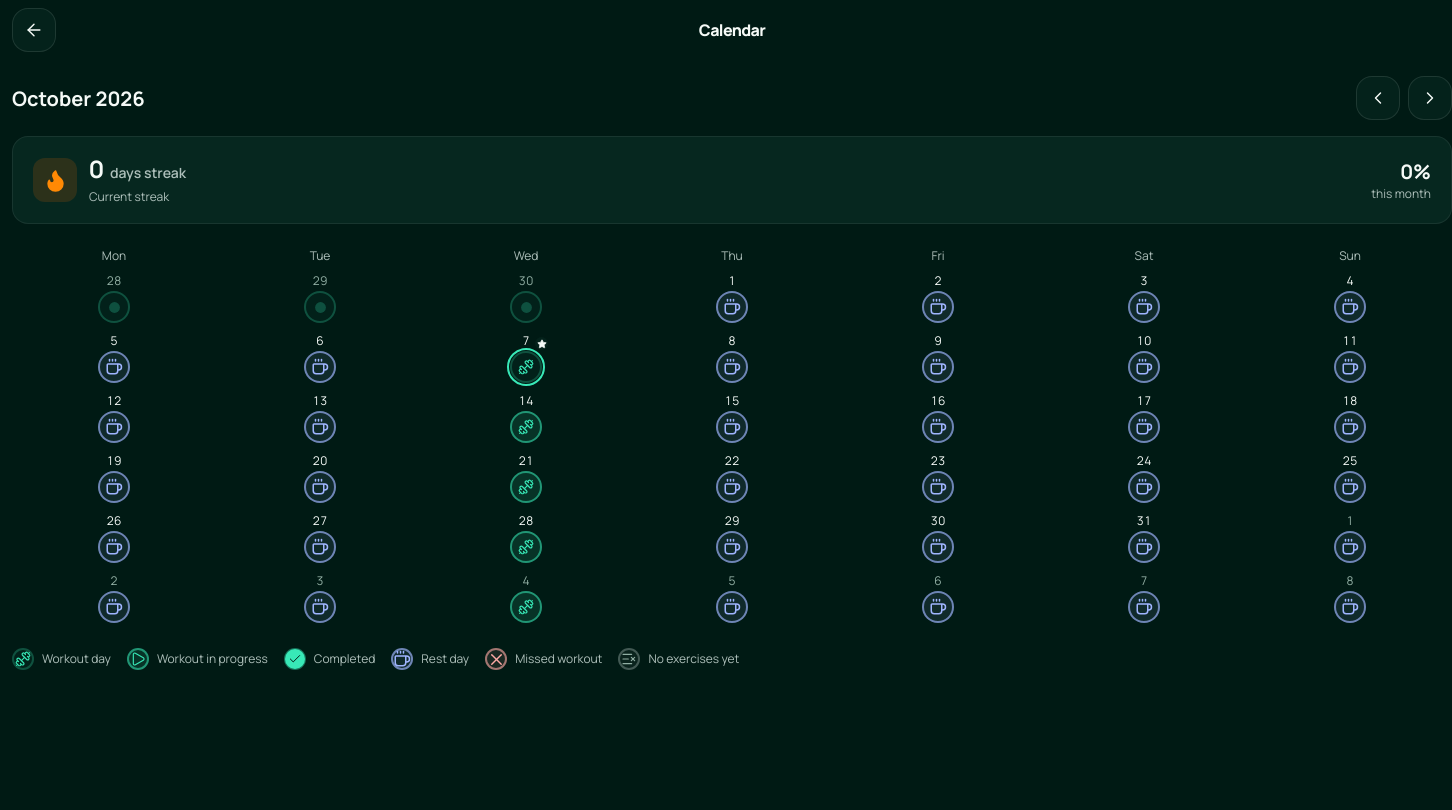
it: renders the monthly summary and keeps the Monday-first 42-cell calendar
Expected: the element named "Monthly workout streak summary" is shown, left=12, top=136, right=1451, bottom=224
Expected: the heading "October 2026" is shown, left=12, top=86, right=145, bottom=110
Click the link named "Previous month". click: (1378, 98)
box: left=1356, top=76, right=1400, bottom=120
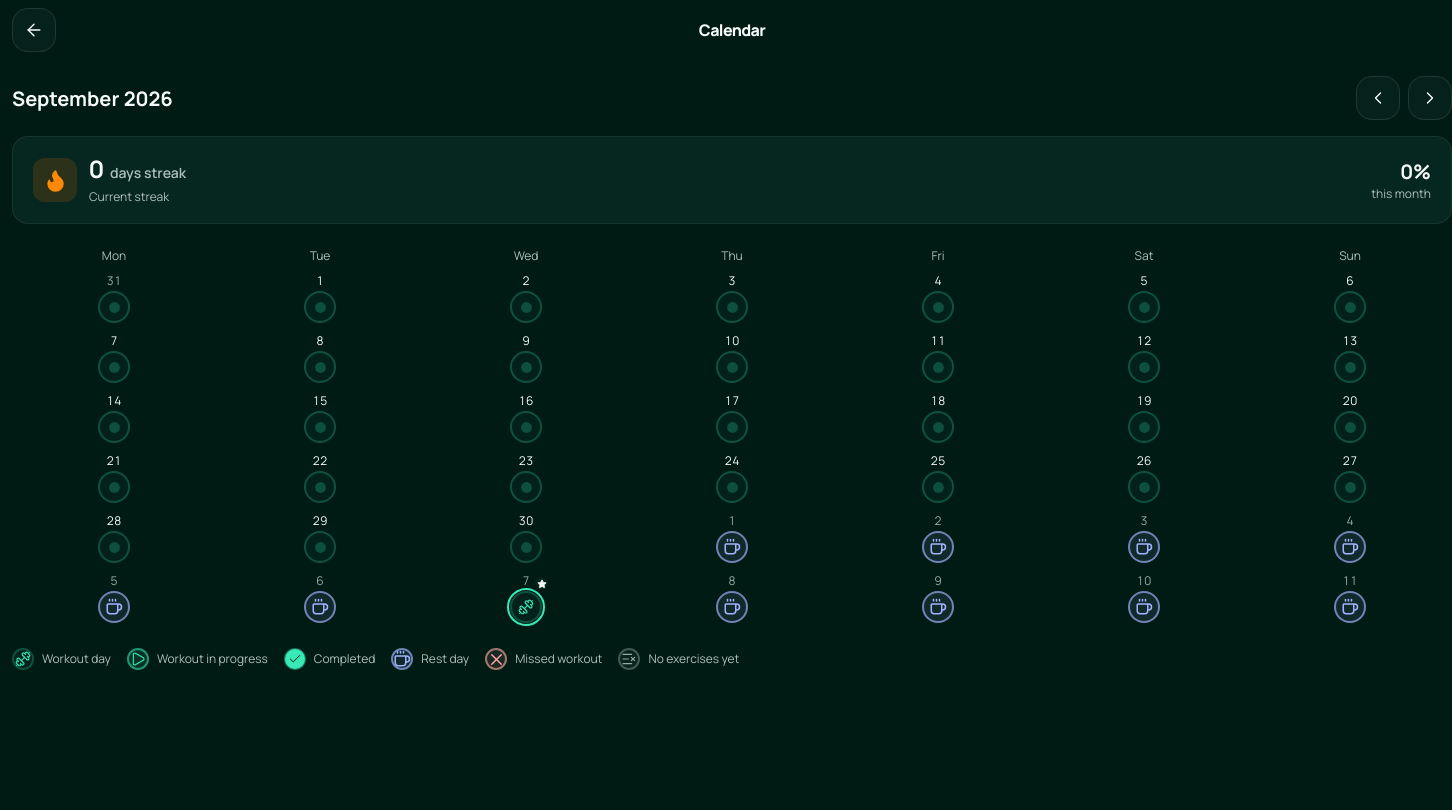
Expected: the heading "September 2026" is shown, left=12, top=86, right=173, bottom=110
Click the link named "Next month". click: (1430, 98)
box: left=1408, top=76, right=1451, bottom=120
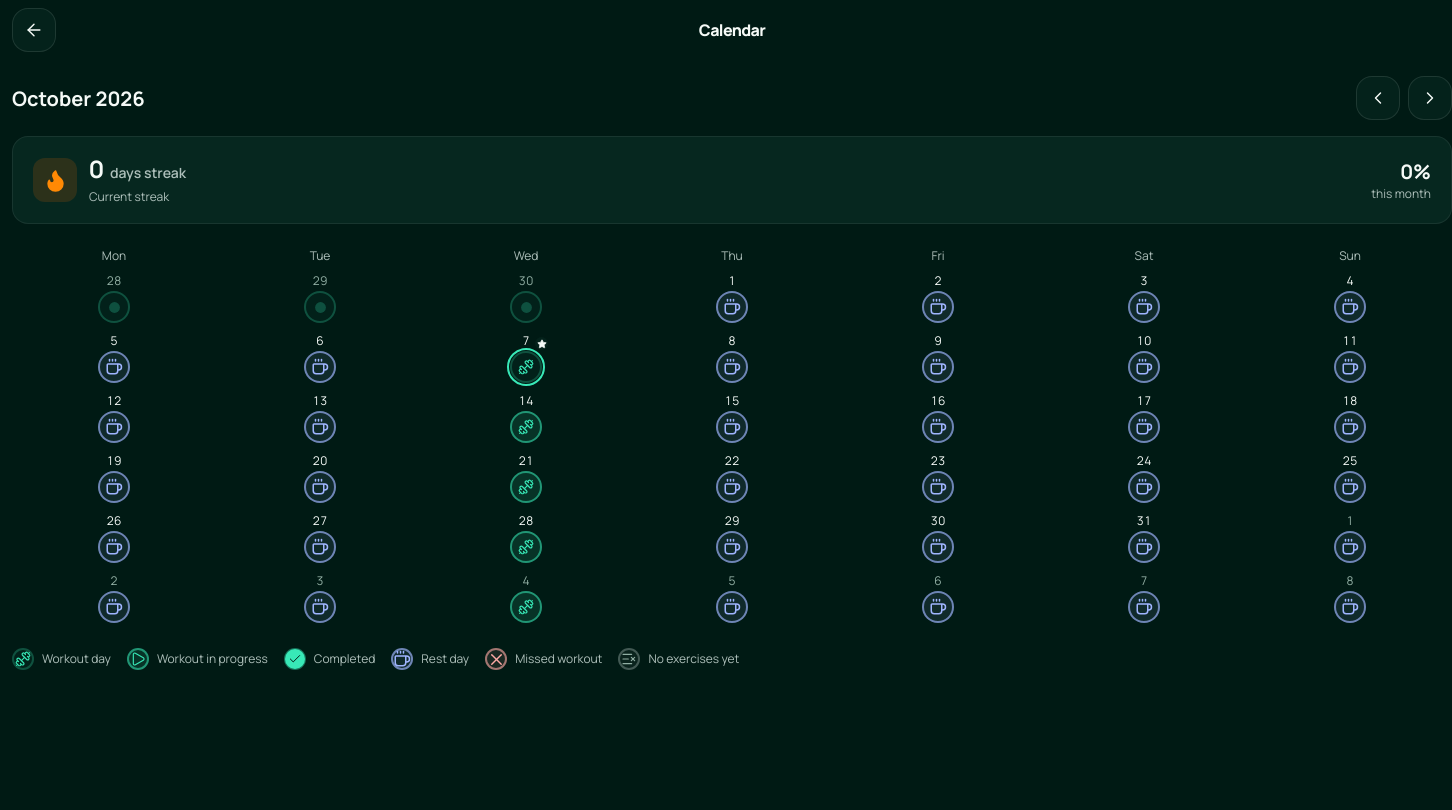
Expected: the heading "October 2026" is shown, left=12, top=86, right=145, bottom=110
